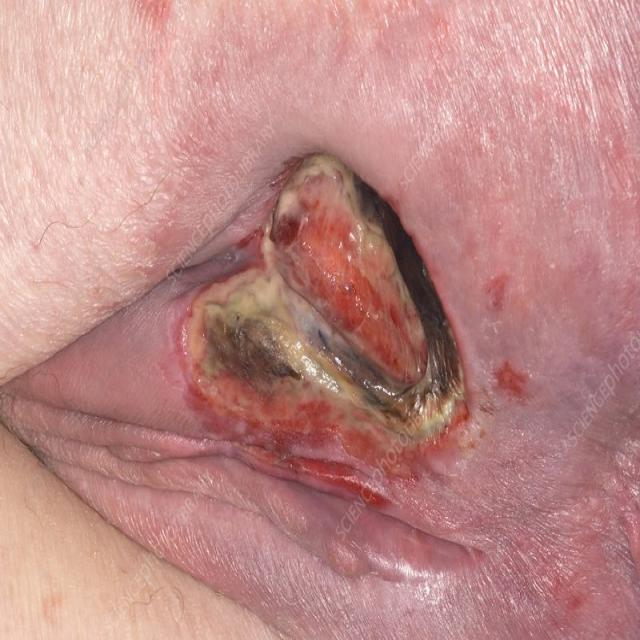Unstageable: (184, 156, 465, 498)
